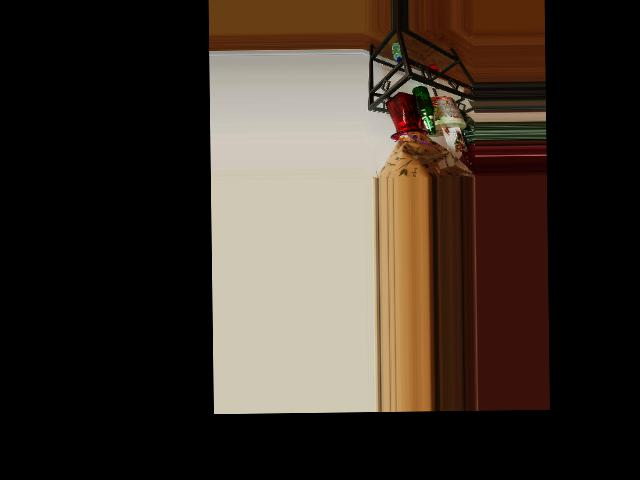beer: (412, 85, 436, 135)
